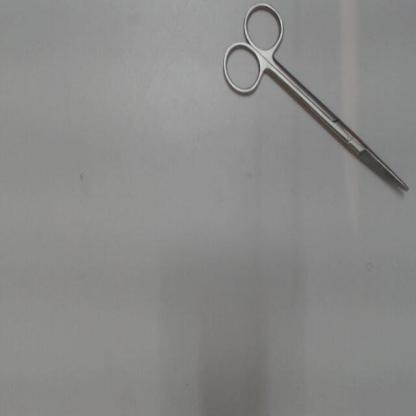Curved Mayo Scissors: (214, 1, 414, 200)
